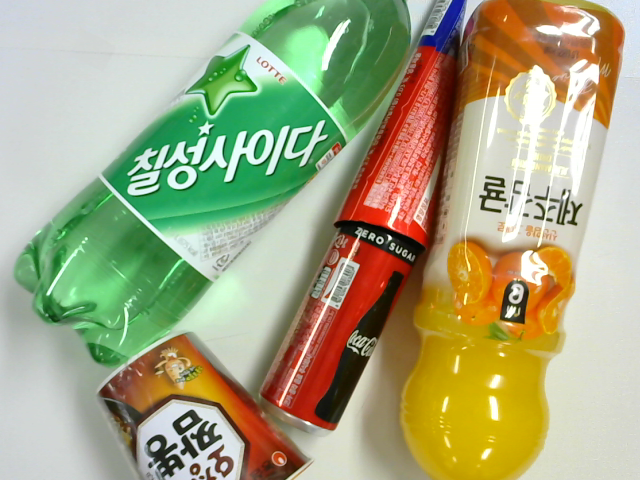Chilseong_Cider_1.5L: (12, 1, 413, 362)
Coca_Cola_Zero_Can_250ml: (256, 214, 420, 431)
Jeju_Tangerine_1.5L: (401, 1, 624, 479)
Ojjam: (94, 334, 320, 480)
World_Cone_Banila: (331, 1, 468, 245)
